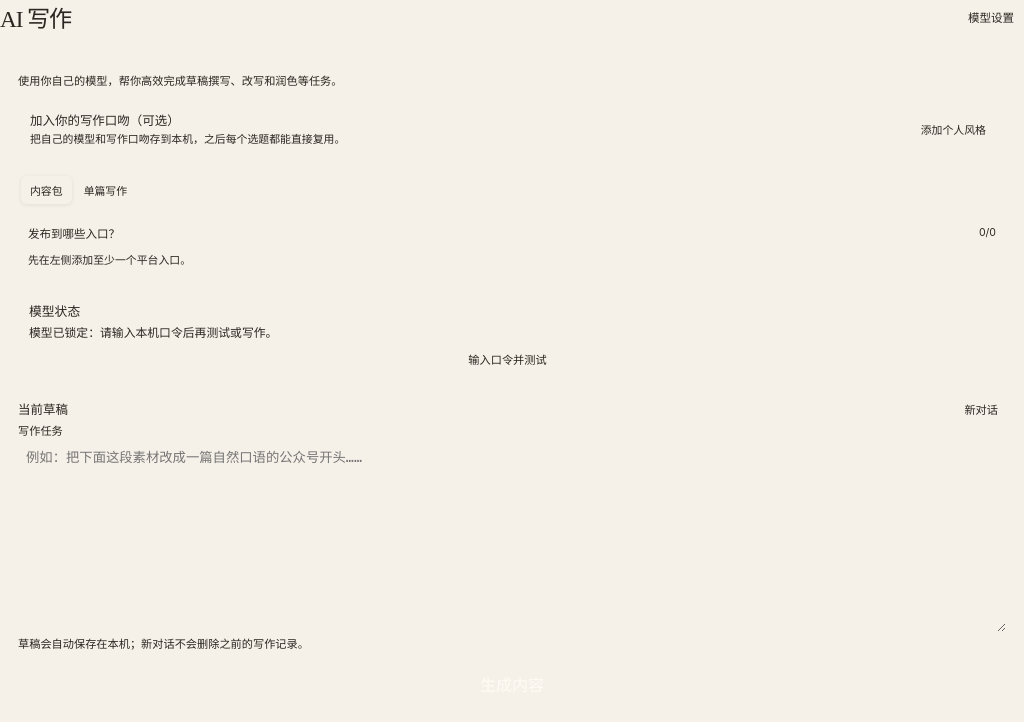
Test case: first model setup › shows a saved model as locked after reload until its local passphrase is verified
Expected: the element named "模型连接状态" shows "模型已锁定：请输入本机口令后再测试或写作", [29,326,277,340]
Click the button "输入口令并测试": click(508, 359) [29,346,986,372]
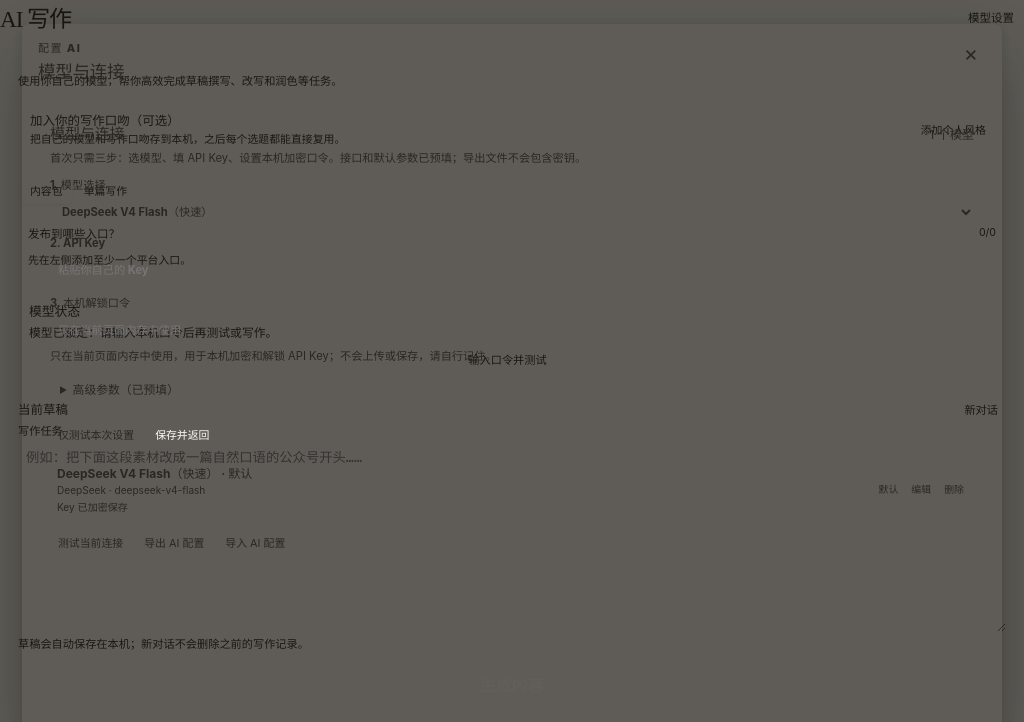
Expected: the password field labelled "本机解锁口令" is shown, [50,314,974,346]
